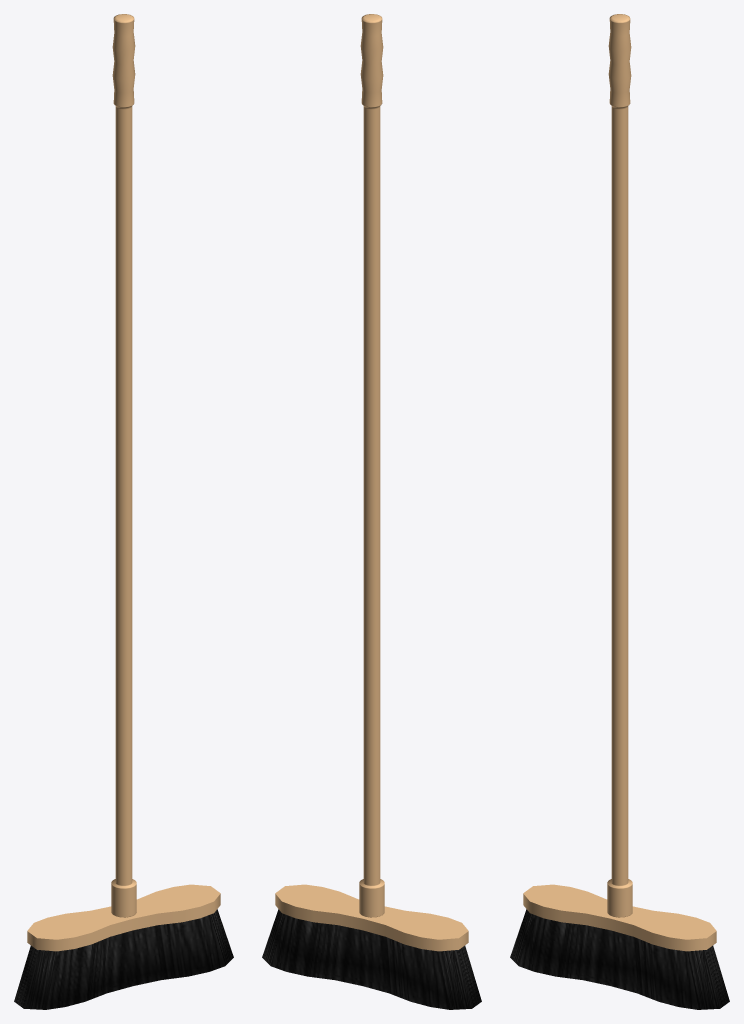
The model's file is broom.glb.
3 renders of one model, left to right at view 1: azimuth 30°, elevation 25°; view 2: azimuth 150°, elevation 25°; view 3: azimuth 330°, elevation 25°, orthographic.
Visible parts, largest first — view 1: Object_3, Object_2; view 2: Object_3, Object_2; view 3: Object_3, Object_2.
Part boxes in pixels (x1,y1,x2,y2): Object_3: (27, 14, 220, 951); Object_2: (14, 909, 233, 1009); Object_3: (275, 14, 468, 951); Object_2: (262, 909, 481, 1009); Object_3: (523, 14, 716, 951); Object_2: (510, 909, 729, 1009).
Bounding box in the file's own units: 36.57 × 160 × 8.15.
2 materials, 1 textured.
